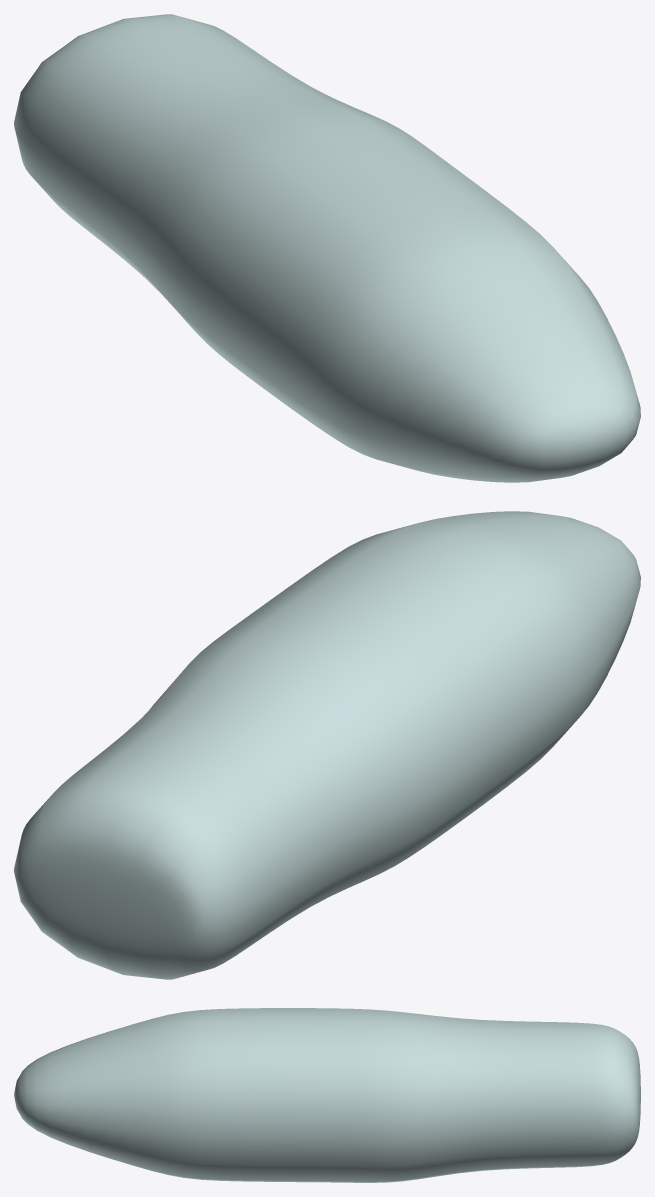
Rendered from Vermiform.fbx.
3 renders of one model, top to bottom at view 1: azimuth 30°, elevation 25°; view 2: azimuth 150°, elevation 25°; view 3: azimuth 270°, elevation 25°, orthographic. The views are drawn at different scales.
Visible parts, largest first — view 1: Cube.035; view 2: Cube.035; view 3: Cube.035.
Part boxes in pixels (x1=…): Cube.035: x1=14, y1=14, x2=640, y2=482; Cube.035: x1=14, y1=511, x2=640, y2=979; Cube.035: x1=14, y1=1008, x2=640, y2=1182.
Bounding box in the file's own units: 308 × 254 × 957.
